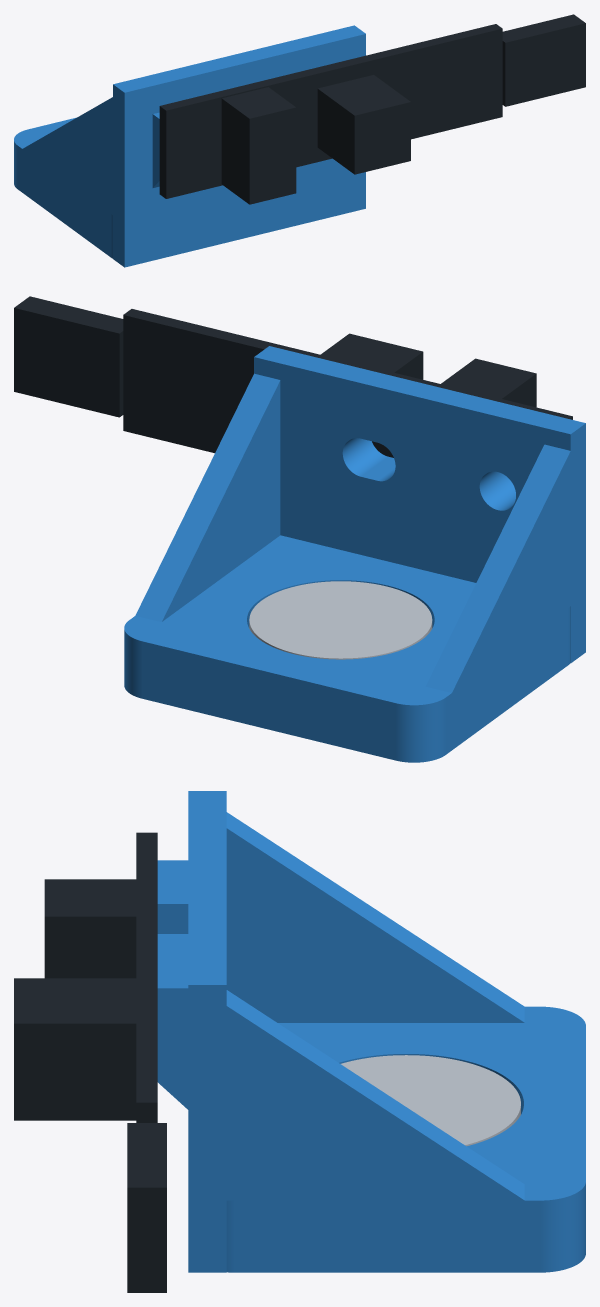
Rendered from d0_ir_assembly.glb.
The picture shows the model from 3 angles, top to bottom: view 1: azimuth 30°, elevation 25°; view 2: azimuth 150°, elevation 25°; view 3: azimuth 270°, elevation 25°; orthographic projection. The views are drawn at different scales.
Visible parts, largest first — view 1: Ghost_TCRT5000_PCB, Part3_IR_Stand_PETG; view 2: Part3_IR_Stand_PETG, Ghost_TCRT5000_PCB, Ghost_Magnet_15x4.4; view 3: Part3_IR_Stand_PETG, Ghost_TCRT5000_PCB, Ghost_Magnet_15x4.4.
Part boxes in pixels (x1=…): Ghost_TCRT5000_PCB: x1=159, y1=14, x2=585, y2=204; Part3_IR_Stand_PETG: x1=14, y1=25, x2=365, y2=267; Part3_IR_Stand_PETG: x1=124, y1=346, x2=585, y2=762; Ghost_TCRT5000_PCB: x1=14, y1=296, x2=572, y2=457; Ghost_Magnet_15x4.4: x1=249, y1=581, x2=432, y2=659; Part3_IR_Stand_PETG: x1=157, y1=791, x2=585, y2=1272; Ghost_TCRT5000_PCB: x1=14, y1=832, x2=166, y2=1292; Ghost_Magnet_15x4.4: x1=341, y1=1055, x2=520, y2=1146.
Bounding box in the file's own units: 0.055 × 0.0207 × 0.0374.
